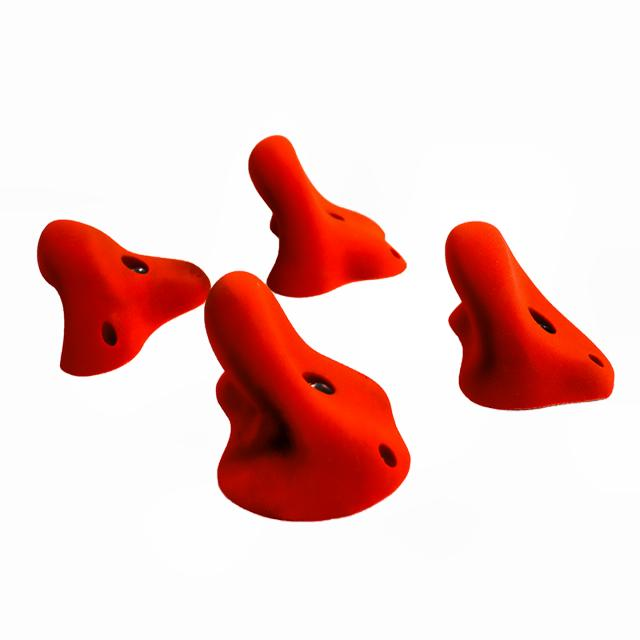Hold: (206, 272, 410, 520), (443, 220, 621, 411), (245, 138, 412, 302), (37, 217, 210, 374)
